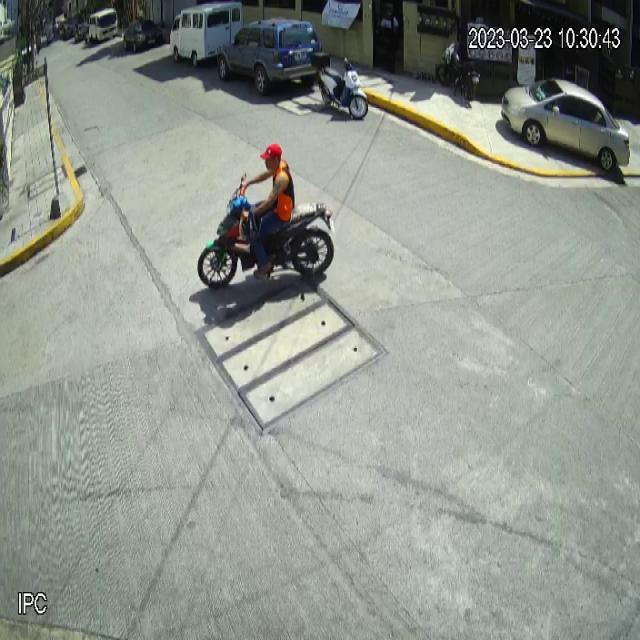Car: (501, 77, 632, 176), (215, 14, 322, 97)
Motorcycle: (197, 188, 335, 291), (311, 51, 369, 120)
Van: (169, 0, 243, 68)
